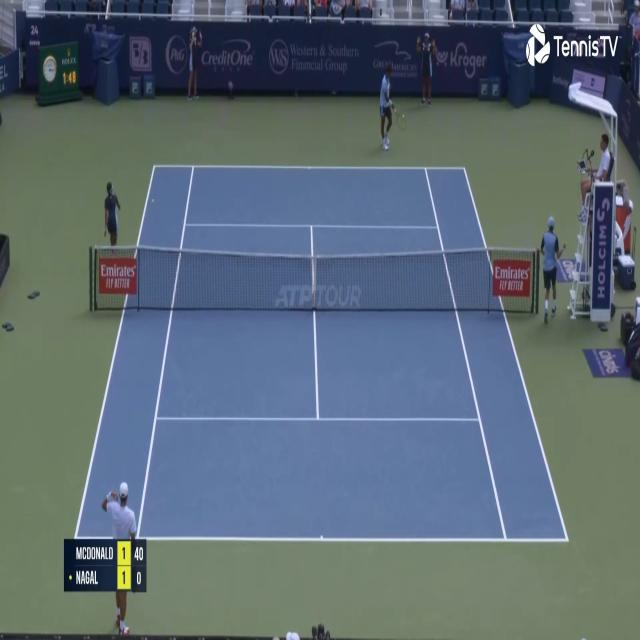tennis-player: (378, 63, 406, 152)
